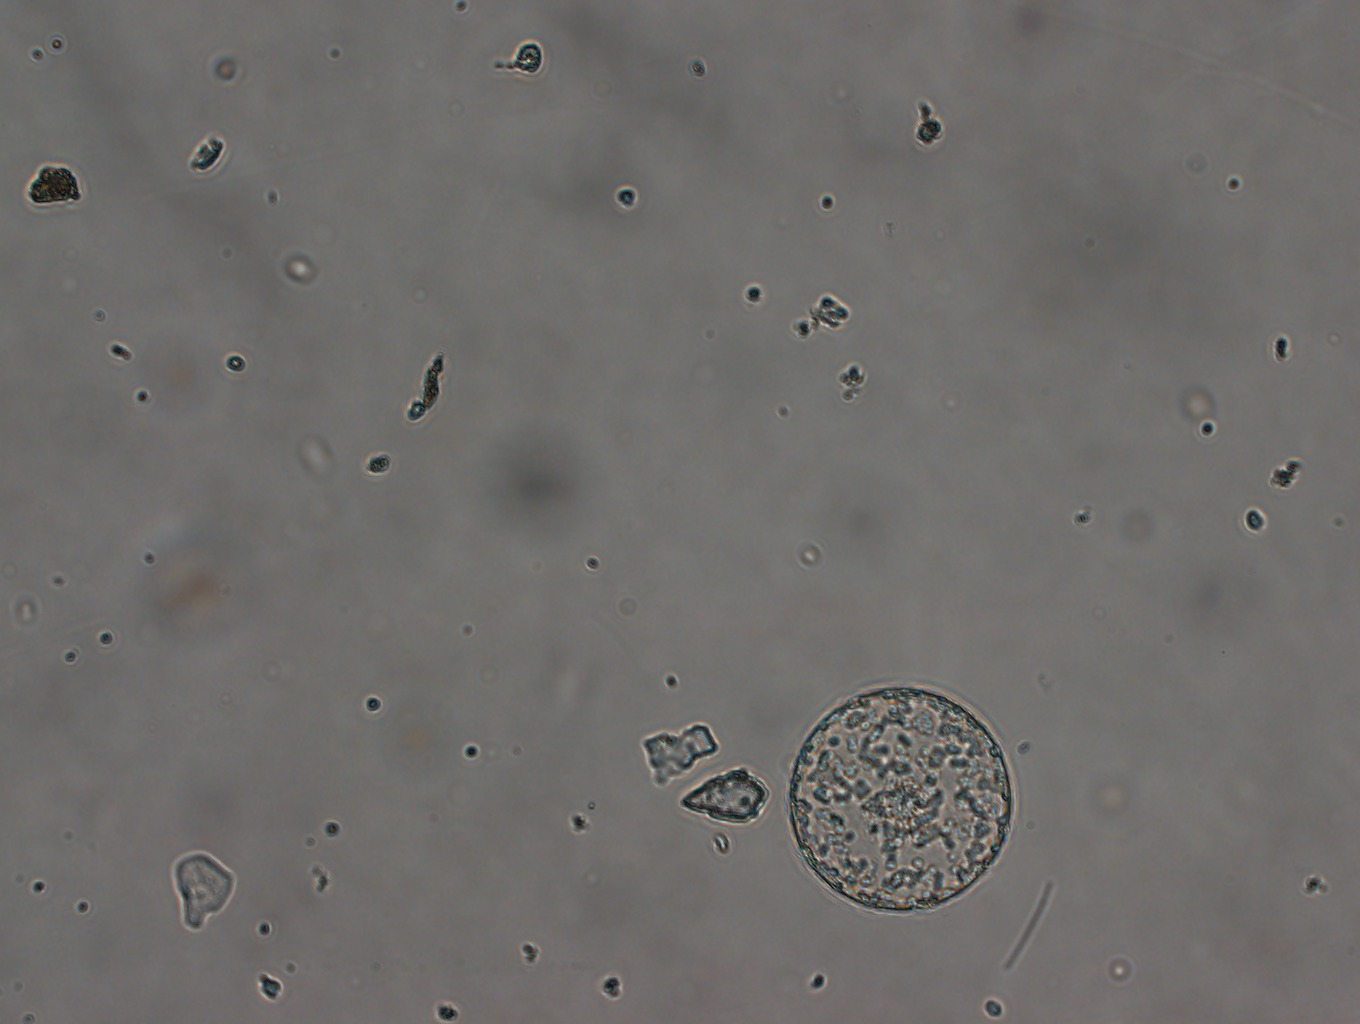coscinodiscus: (788, 687, 1017, 915)
